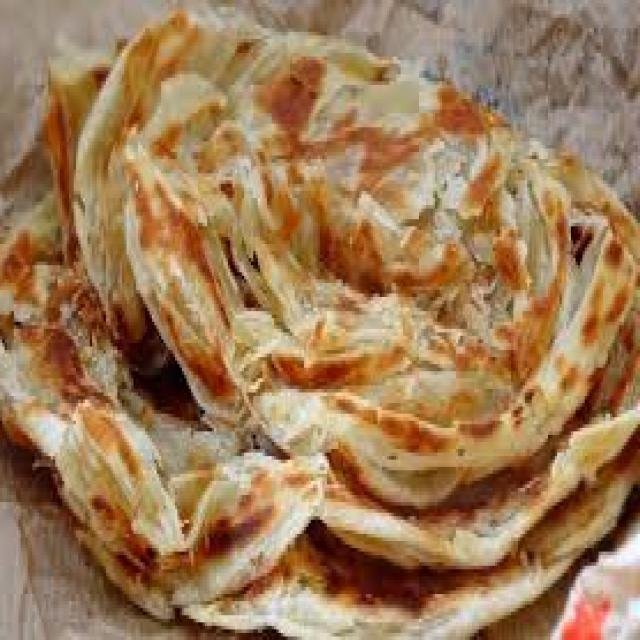Paratha: (29, 54, 617, 640)
